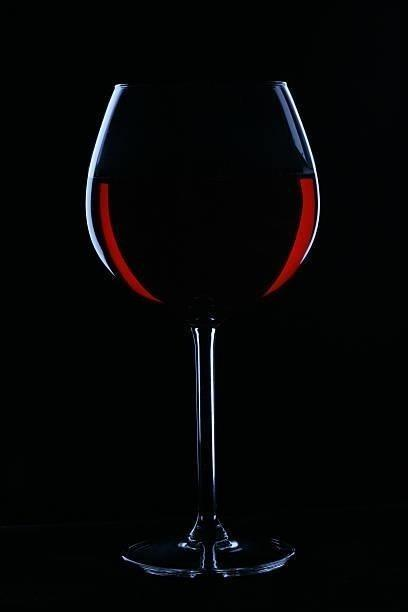glass-wine: (84, 76, 321, 580)
